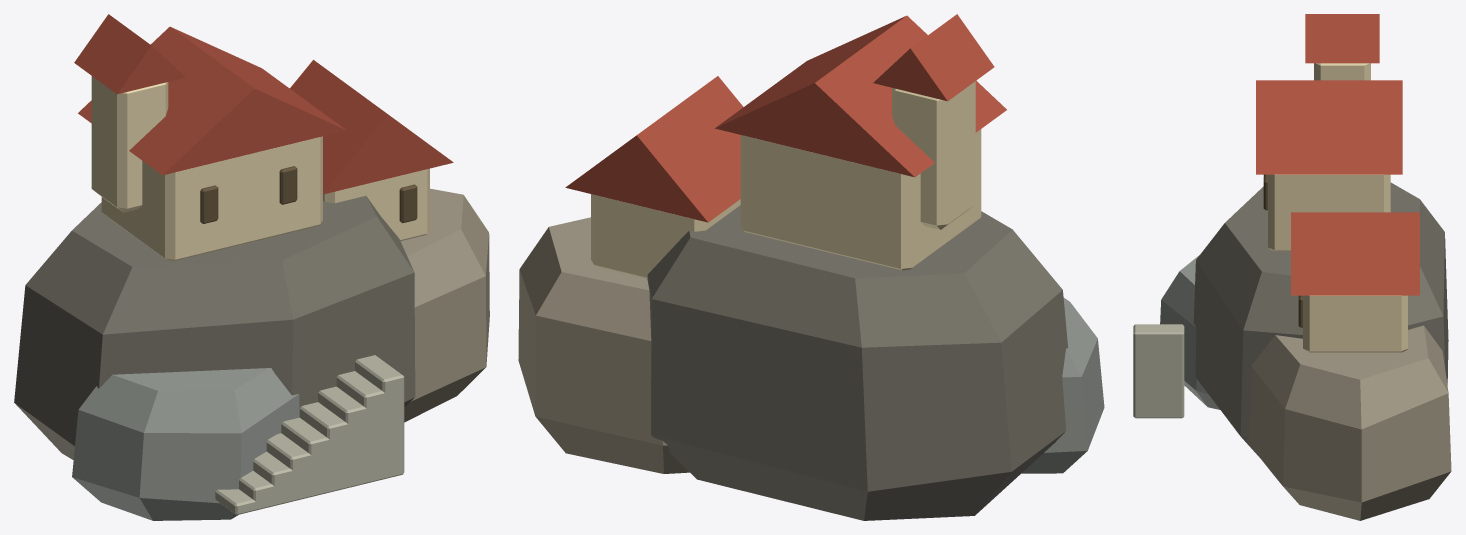
File: cliff-monastery.glb
3 renders of one model, left to right at view 1: azimuth 30°, elevation 25°; view 2: azimuth 150°, elevation 25°; view 3: azimuth 270°, elevation 25°, orthographic. The views are drawn at different scales.
Parts seen in each view (by area): view 1: cliff-monastery; view 2: cliff-monastery; view 3: cliff-monastery.
Part boxes in pixels (x1,y1,x2,y2): cliff-monastery: [14, 14, 489, 520]; cliff-monastery: [518, 14, 1104, 520]; cliff-monastery: [1133, 14, 1451, 520].
Bounding box in the file's own units: 1.07 × 0.918 × 0.7273.
